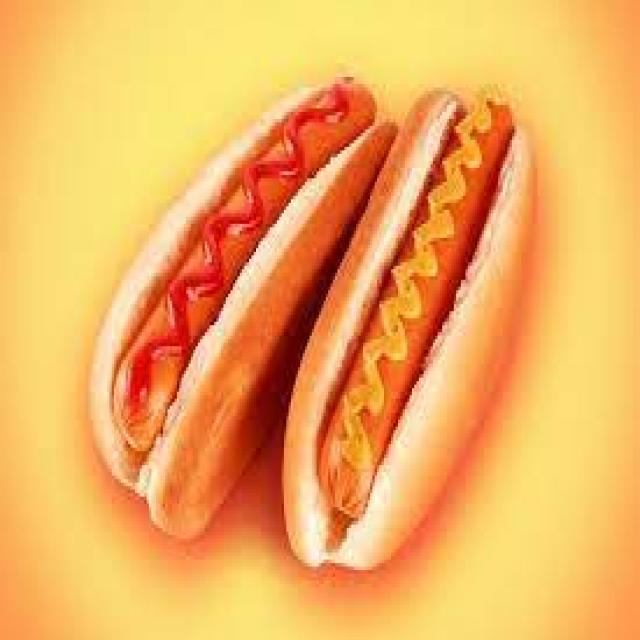Hot Dog: (121, 138, 581, 494)
